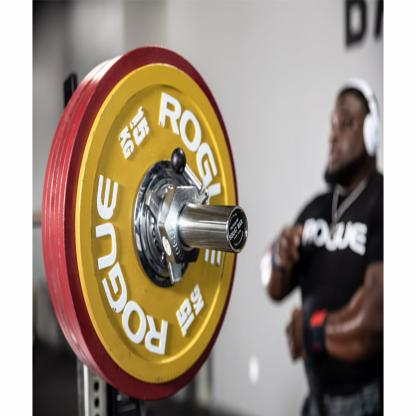Barbell: (39, 40, 251, 405)
